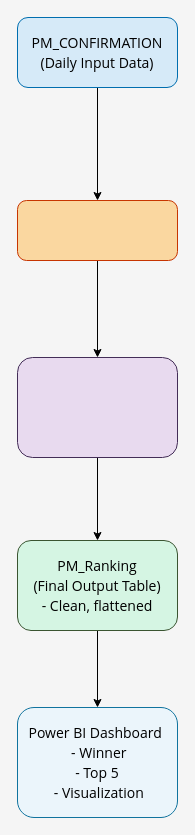
The diagram is 195 pixels wide and 835 high, and some of its shapes have lost their labels. The centre of each missing label's shape, as x and y in pixels:
"PM_History (Snapshot Layer) Stores daily states" goes at [97,230].
"Power Pivot Model -Measures (DAX) - Completion Logic - Ranking Logic" goes at [97,407].
